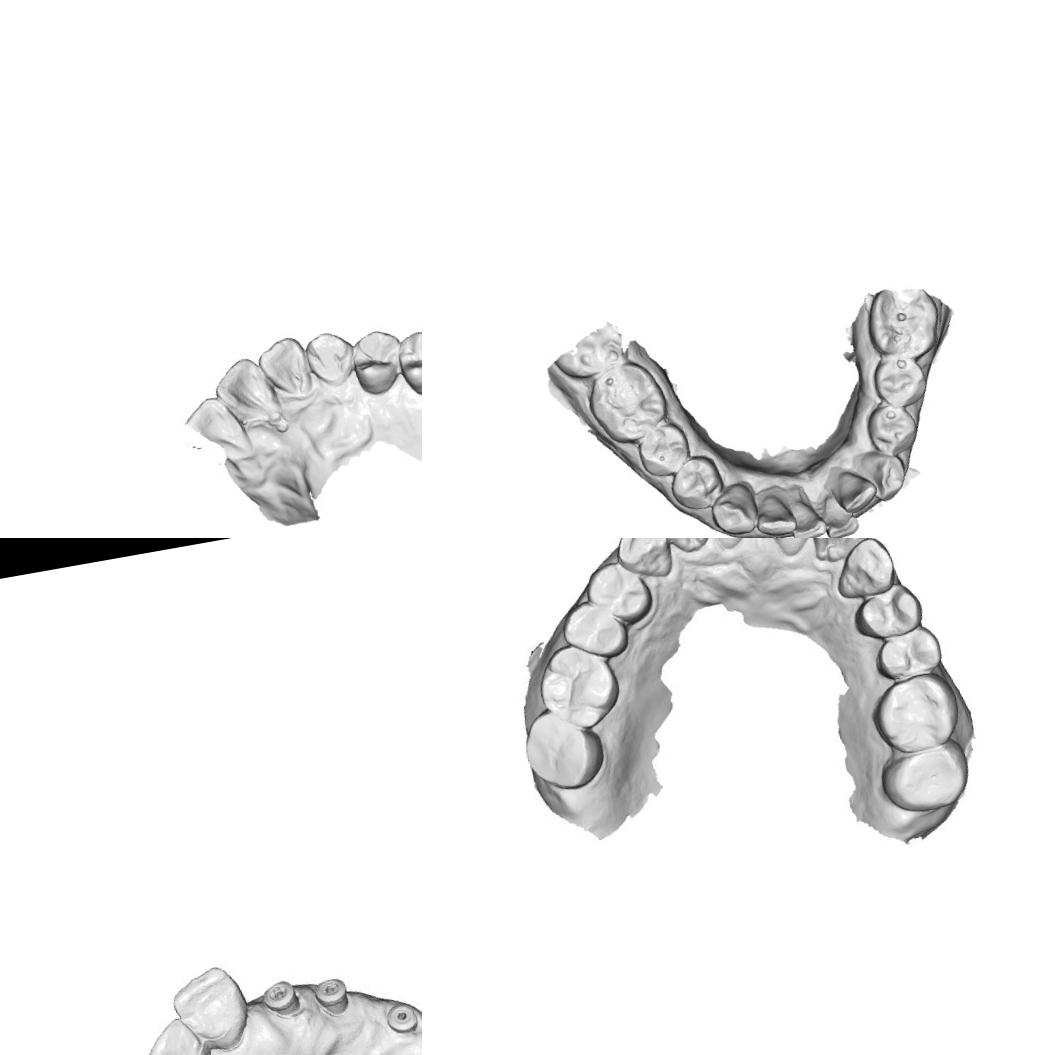canine: (830, 538, 897, 598), (302, 328, 357, 392), (705, 477, 761, 538), (856, 444, 910, 506), (608, 538, 678, 583)
implant: (383, 998, 422, 1041)
implant_minus: (313, 976, 351, 1019), (260, 976, 298, 1015)
incisor: (170, 964, 249, 1050), (209, 352, 283, 425), (254, 332, 315, 405), (142, 1016, 210, 1055), (830, 463, 880, 516), (750, 487, 799, 538), (817, 486, 861, 538), (785, 492, 829, 538), (805, 538, 872, 559), (755, 538, 823, 554), (658, 538, 714, 554)
molar: (515, 704, 613, 798), (582, 355, 673, 450), (876, 738, 978, 820), (868, 670, 960, 758), (860, 278, 946, 366), (535, 646, 612, 722)
premolar: (585, 558, 653, 626), (868, 625, 949, 681), (848, 581, 924, 639), (346, 325, 408, 396), (665, 450, 726, 514), (868, 350, 930, 412), (634, 418, 694, 481), (564, 600, 628, 658), (862, 399, 921, 458), (393, 326, 422, 399)
